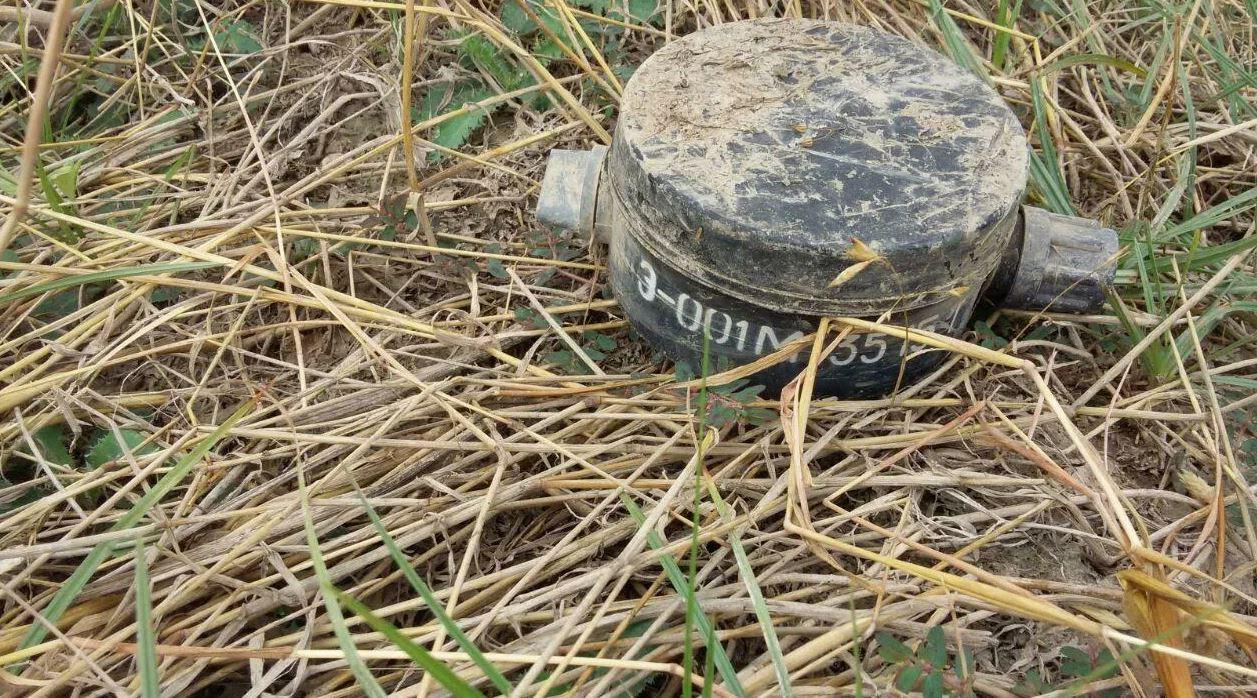pmn: (532, 13, 1123, 418)
